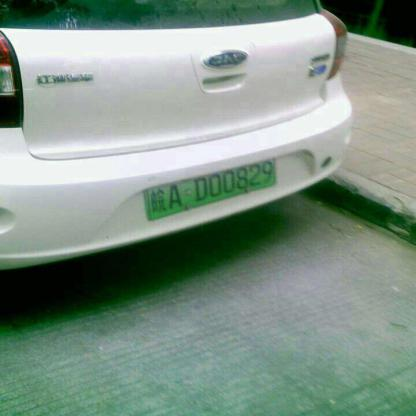lp: (147, 157, 278, 219)
